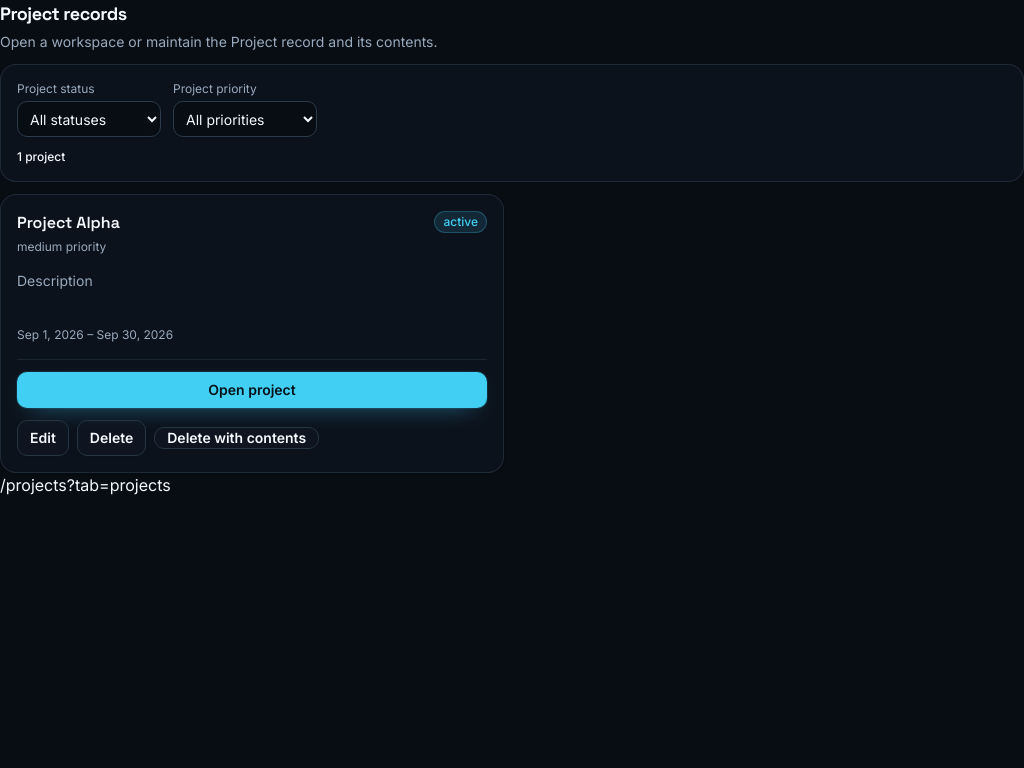
Test: Delete project and contents (mocked backend/jsdom) › does not treat zero related counts as a reason to fabricate rows or block deletion
Click the button with aria-label "Delete project and contents: Project Alpha". click: [237, 438]
box: [154,427,319,449]
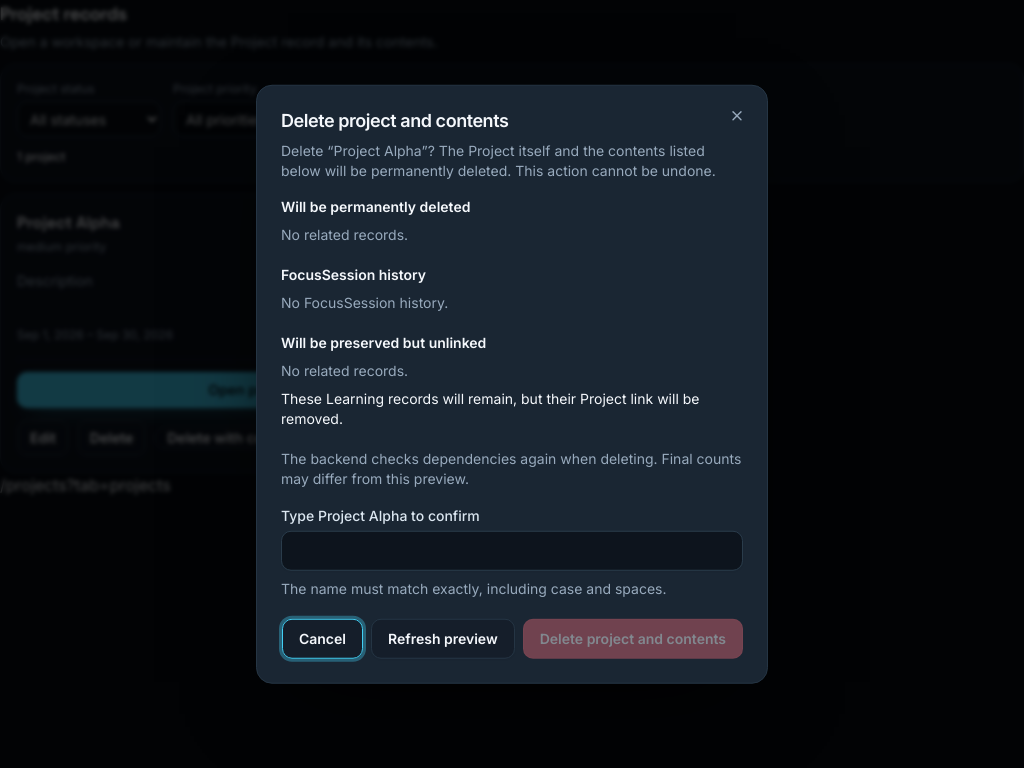
Check: the element "Will be permanently deleted" is shown, box [281,197,470,242]
Check: the text "No related records." is shown 2 times, box [281,225,408,242]; [281,361,408,378]
Type "Project Alpha" into the field. click: [512, 550]
box: [281,530,743,570]
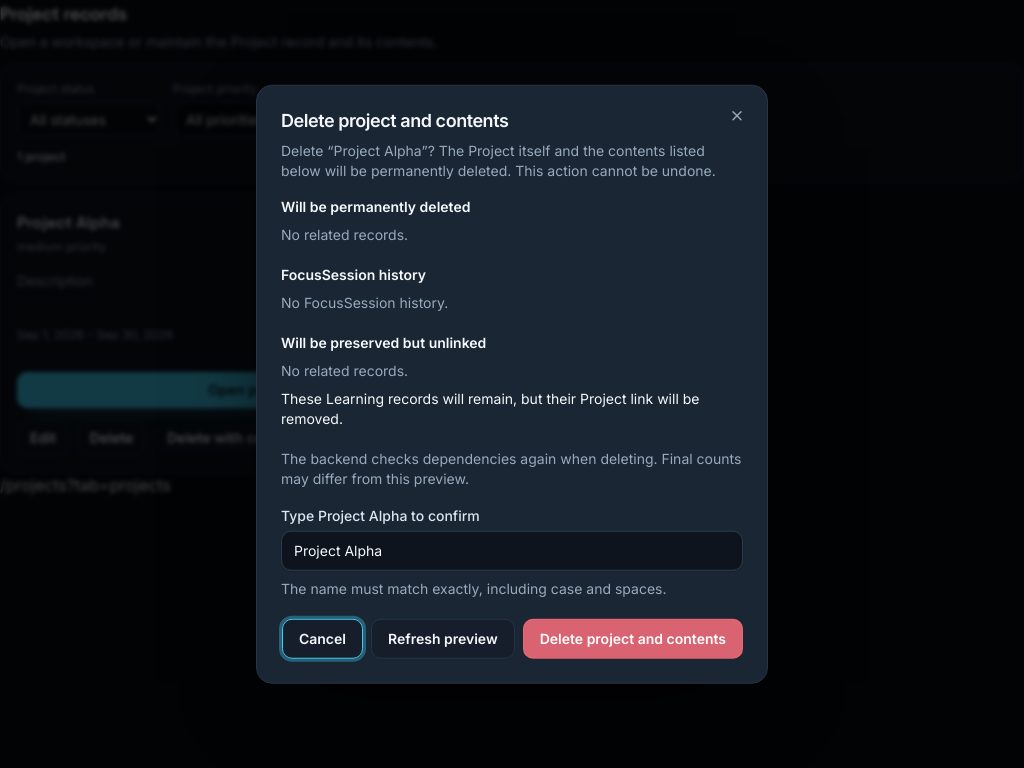
Check: the button "Delete project and contents" is enabled, box [523,618,743,658]
